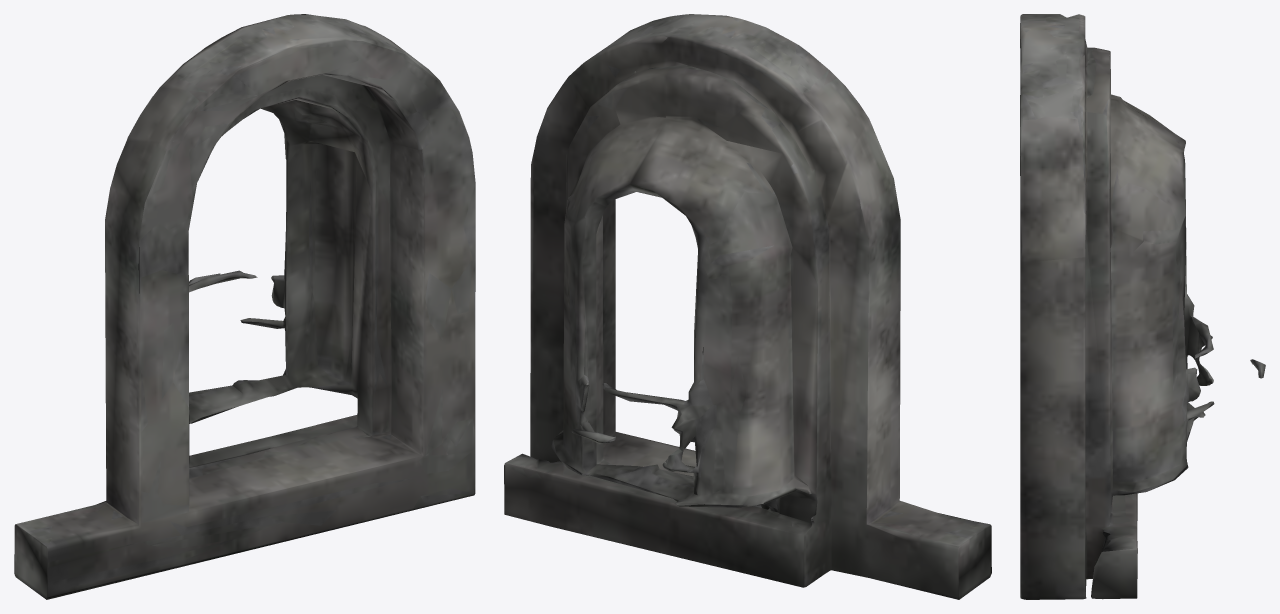
The model's file is plain-granite-arched-doorway-v002.glb.
3 renders of one model, left to right at view 1: azimuth 30°, elevation 25°; view 2: azimuth 150°, elevation 25°; view 3: azimuth 270°, elevation 25°, orthographic. The views are drawn at different scales.
Parts seen in each view (by area): view 1: plain-granite-arched-doorway; view 2: plain-granite-arched-doorway; view 3: plain-granite-arched-doorway.
Part boxes in pixels (<box>): plain-granite-arched-doorway: <box>14,14,475,599</box>; plain-granite-arched-doorway: <box>504,14,991,599</box>; plain-granite-arched-doorway: <box>1020,14,1265,599</box>.
Bounding box in the file's own units: 2.56 × 2.84 × 1.3.
Materials: 1 (1 with a texture image).
